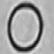no answer: (7, 0, 46, 54)
